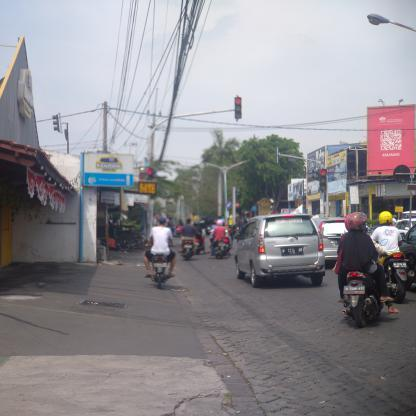red: (320, 168, 328, 192), (235, 97, 242, 119)
